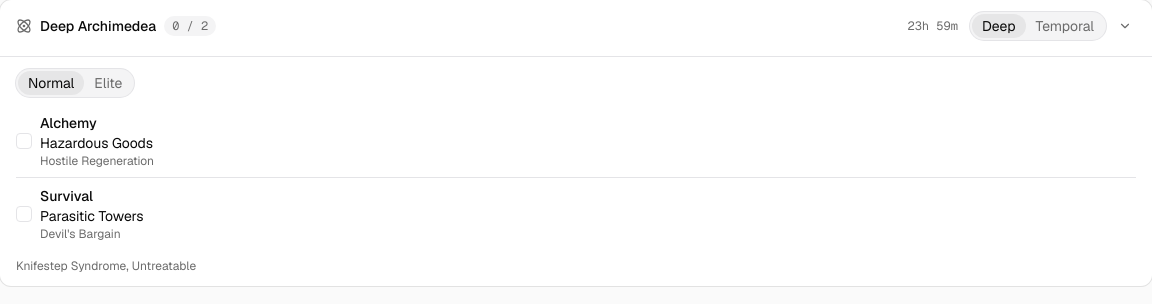
Test: archimedea panel › adds the elite risks only once elite is on
Expected: the text "Hostile Regeneration" is shown, [40,153,154,169]
Expected: the text "Vampyric Liminus" is not shown
Click the radio button labelled "Elite" at coordinates (108, 83), box [84,71,132,95]
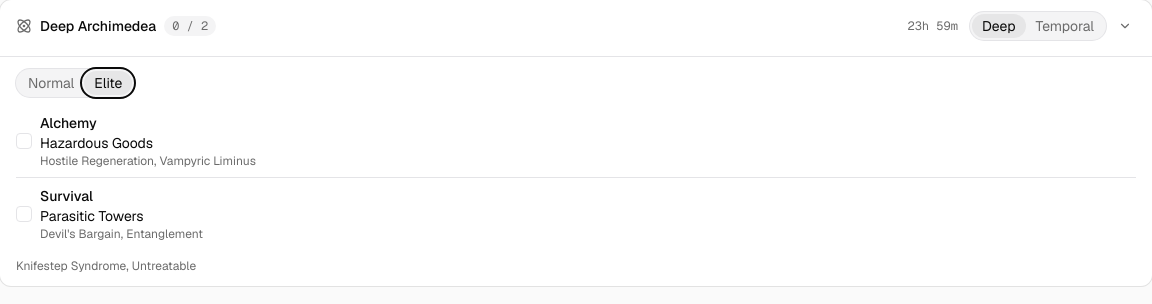
Now the text "Hostile Regeneration, Vampyric Liminus" is shown, box [40,153,256,169]
